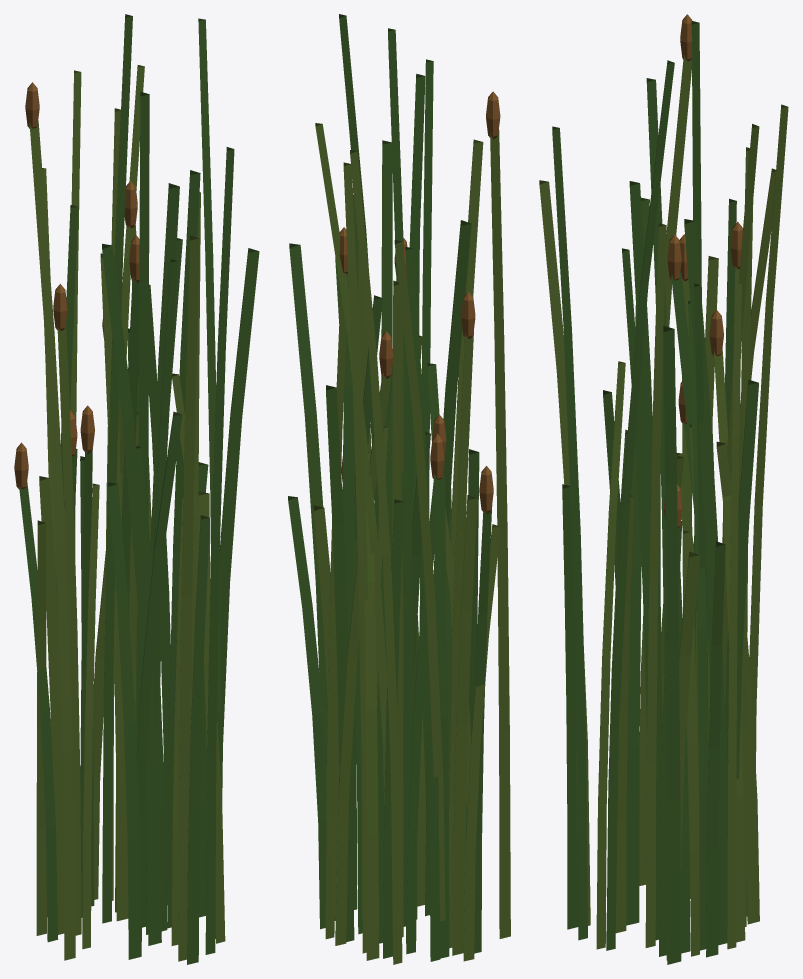
The model's file is wet_sedge_v3.glb.
The picture shows the model from 3 angles, left to right: view 1: azimuth 30°, elevation 25°; view 2: azimuth 150°, elevation 25°; view 3: azimuth 270°, elevation 25°; orthographic projection.
Parts seen in each view (by area): view 1: wet_sedge_v3; view 2: wet_sedge_v3; view 3: wet_sedge_v3.
Part boxes in pixels (bbox=[...]): wet_sedge_v3: bbox=[14, 14, 259, 964]; wet_sedge_v3: bbox=[288, 14, 510, 964]; wet_sedge_v3: bbox=[539, 14, 788, 964].
Bounding box in the file's own units: 0.2361 × 0.9075 × 0.2268.
